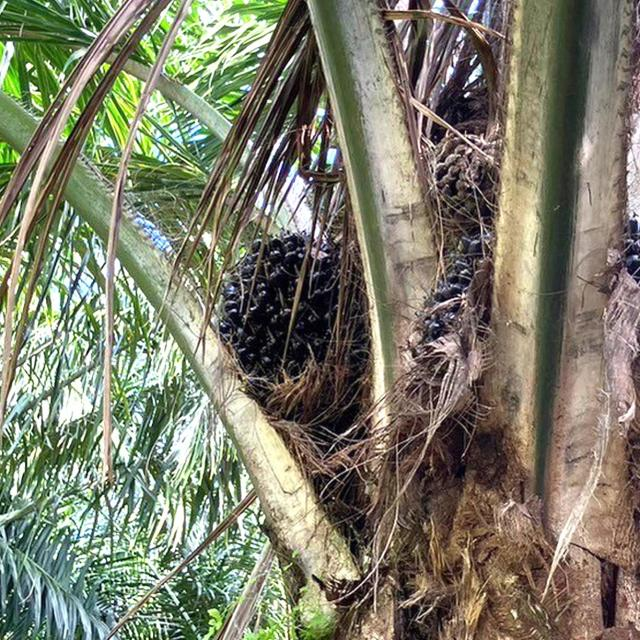unripe: (202, 223, 367, 428)
